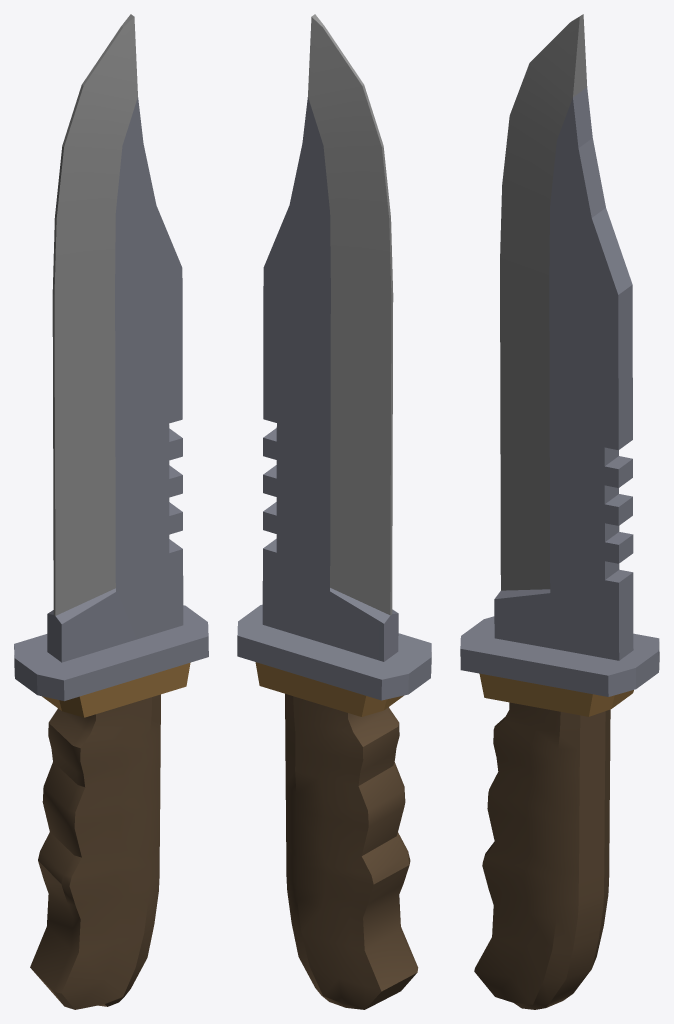
The model's file is knife.glb.
The picture shows the model from 3 angles, left to right: view 1: azimuth 30°, elevation 25°; view 2: azimuth 150°, elevation 25°; view 3: azimuth 330°, elevation 25°; orthographic projection. The views are drawn at different scales.
Visible parts, largest first — view 1: Knife_1; view 2: Knife_1; view 3: Knife_1.
Part boxes in pixels (left/top/right/bottom): Knife_1: left=14, top=14, right=208, bottom=1009; Knife_1: left=237, top=14, right=431, bottom=1009; Knife_1: left=460, top=14, right=659, bottom=1009.
Size of the model in its own units: 0.2596 by 1.41 by 0.131.
